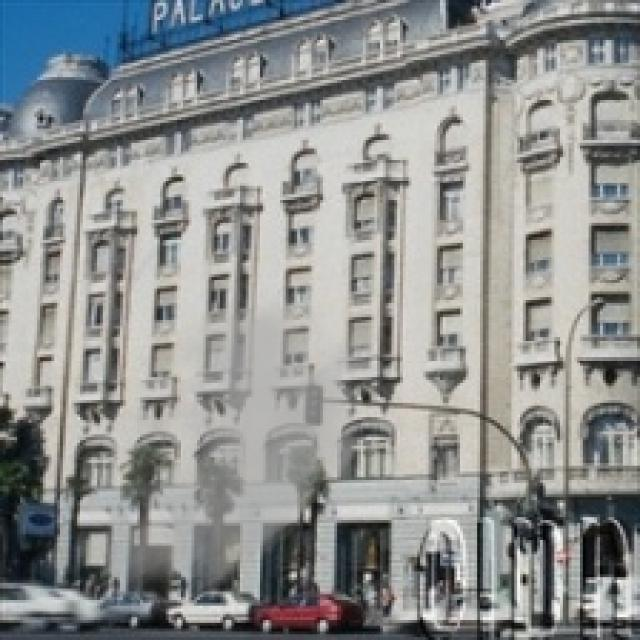Smoke: (22, 268, 388, 634)
